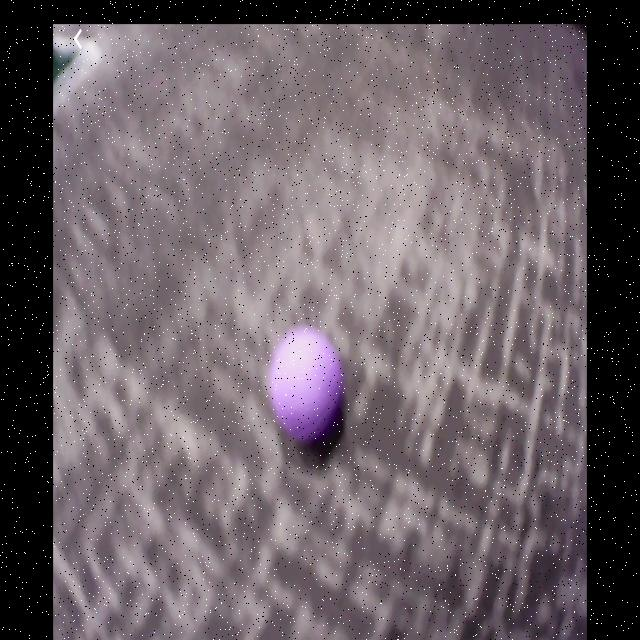ball: (268, 327, 344, 443)
